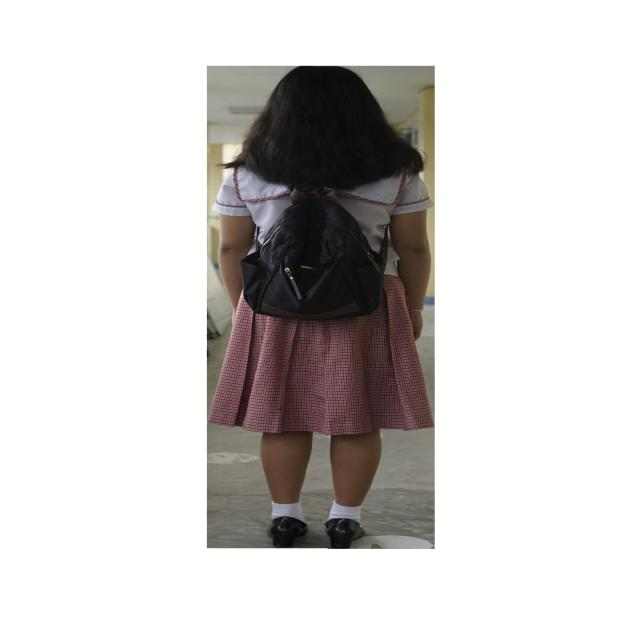pologirl: (341, 173, 433, 252), (212, 168, 291, 243), (386, 237, 399, 277)
shoes: (267, 516, 308, 548), (325, 518, 364, 549)
skirt: (208, 275, 433, 436)
